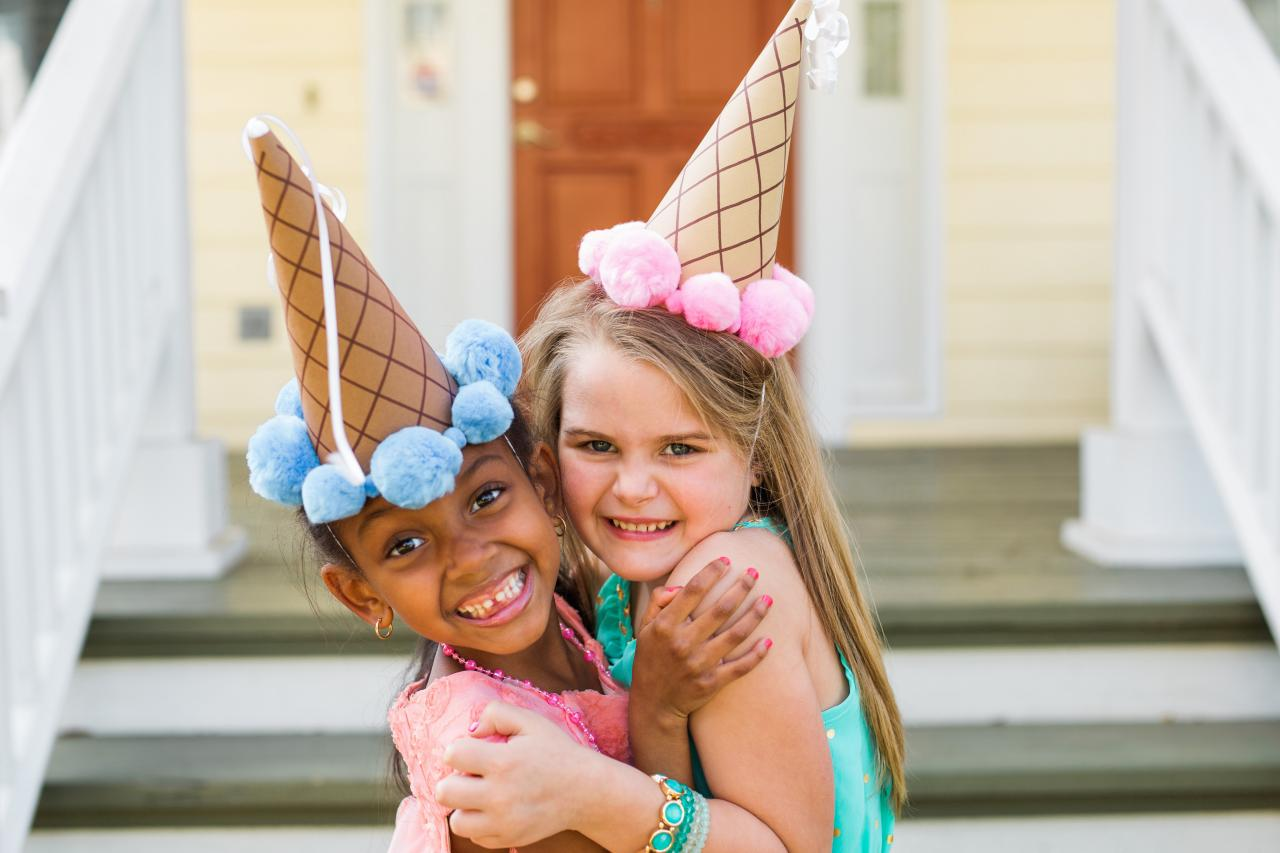cone: (247, 118, 460, 476), (647, 1, 813, 300)
